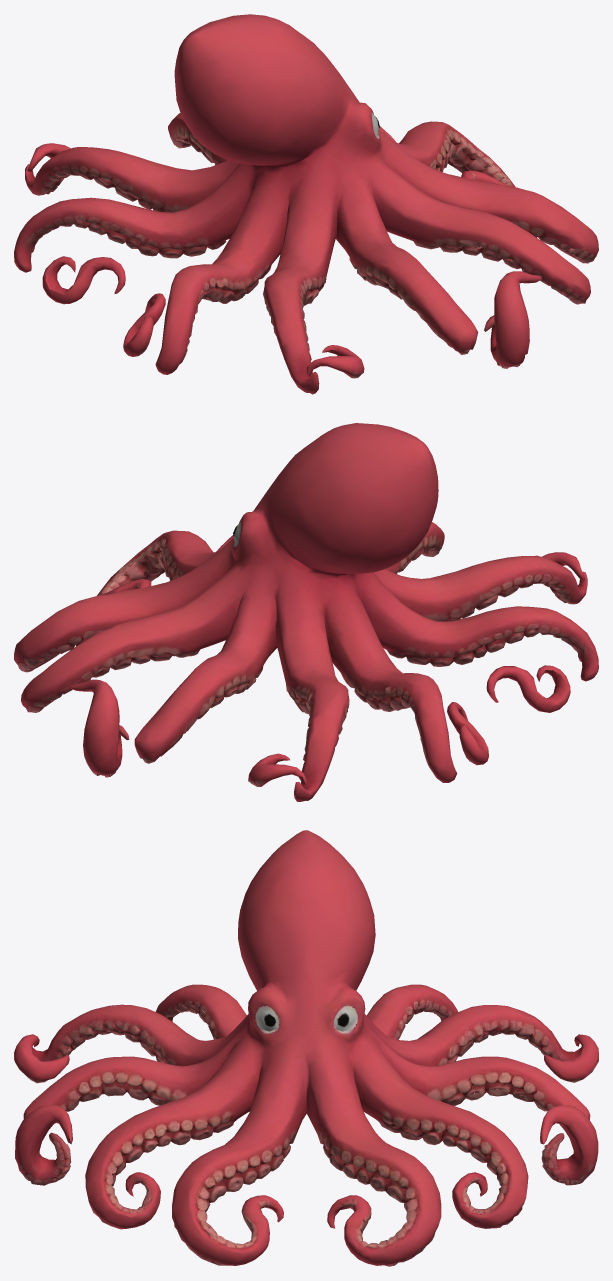
The model's file is kraken.glb.
3 renders of one model, top to bottom at view 1: azimuth 30°, elevation 25°; view 2: azimuth 150°, elevation 25°; view 3: azimuth 270°, elevation 25°, orthographic. The views are drawn at different scales.
Visible parts, largest first — view 1: geometry_0; view 2: geometry_0; view 3: geometry_0.
Part boxes in pixels (left/top/right/bottom): geometry_0: left=14, top=14, right=598, bottom=394; geometry_0: left=14, top=423, right=598, bottom=801; geometry_0: left=14, top=830, right=598, bottom=1266.
Size of the model in its own units: 0.8876 by 0.5174 by 0.9967.
Materials: 1 (1 with a texture image).
